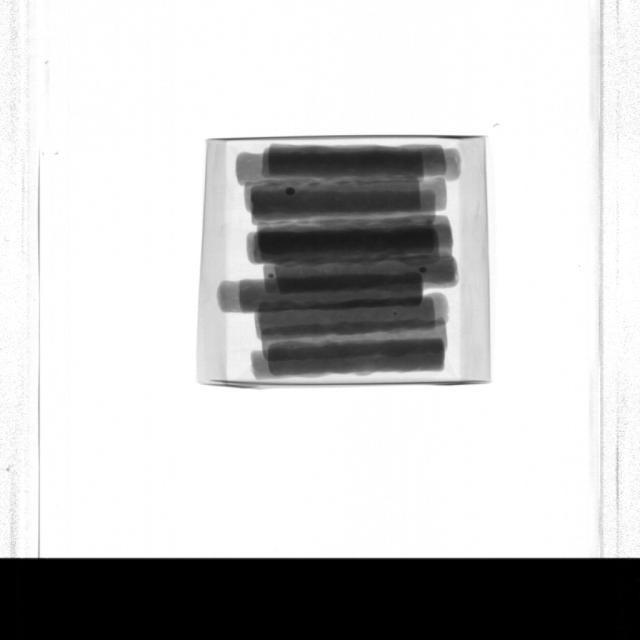ym: (285, 188, 296, 196), (420, 267, 427, 273), (269, 274, 274, 279), (393, 311, 398, 316)
